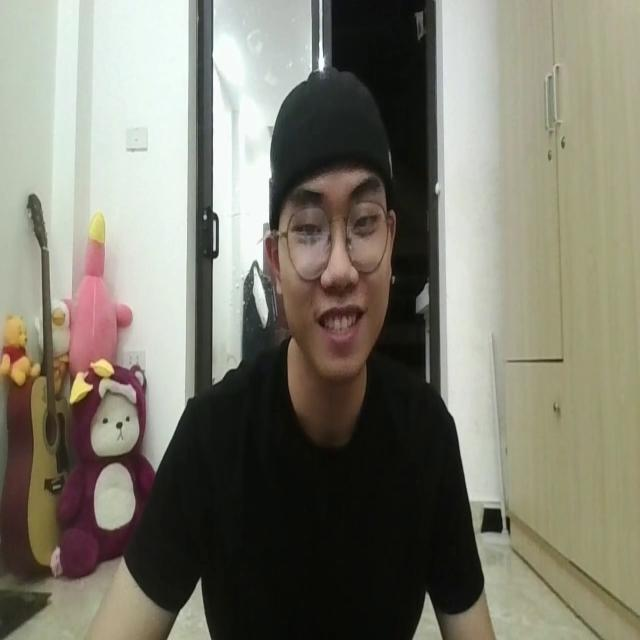student: (108, 68, 492, 640)
